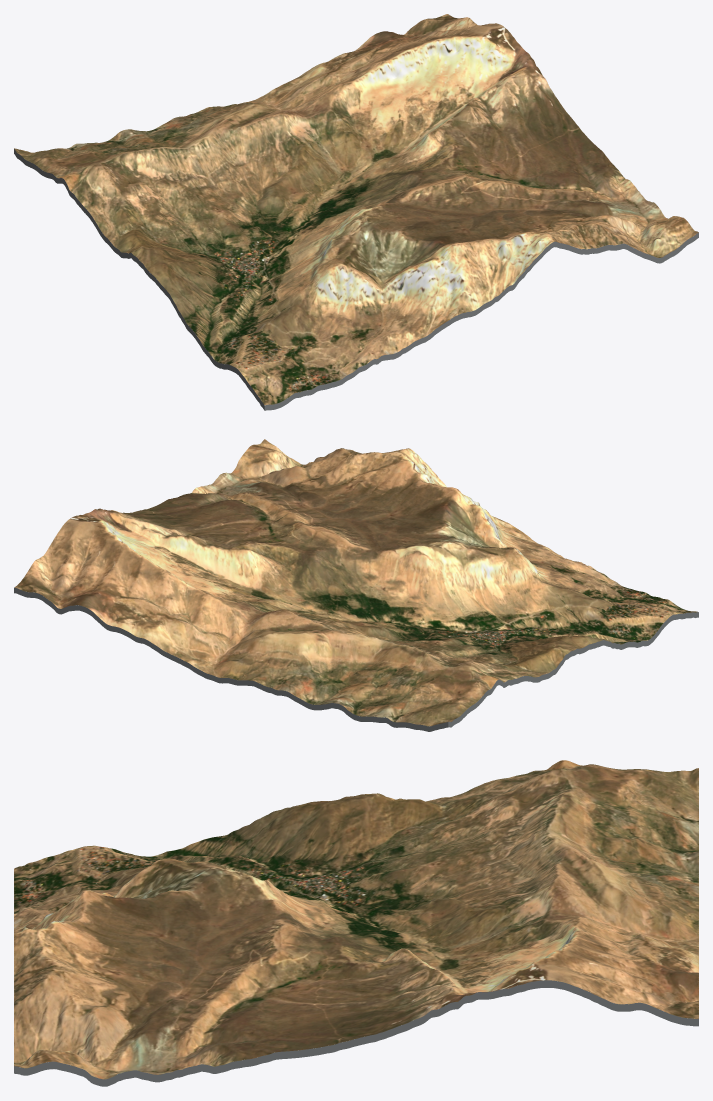
3 renders of one model, top to bottom at view 1: azimuth 30°, elevation 25°; view 2: azimuth 150°, elevation 25°; view 3: azimuth 270°, elevation 25°, orthographic. The views are drawn at different scales.
Visible parts, largest first — view 1: terrain, skirt; view 2: terrain, skirt; view 3: terrain, skirt.
Boxes of the visible parts, left/top/right/bottom form: terrain: left=14, top=14, right=698, bottom=405; skirt: left=14, top=149, right=698, bottom=410; terrain: left=14, top=439, right=697, bottom=726; skirt: left=14, top=587, right=698, bottom=731; terrain: left=14, top=760, right=698, bottom=1079; skirt: left=14, top=980, right=698, bottom=1086.
Bounding box in the file's own units: 7500 × 2270 × 7500.
Materials: 1 (1 with a texture image).
